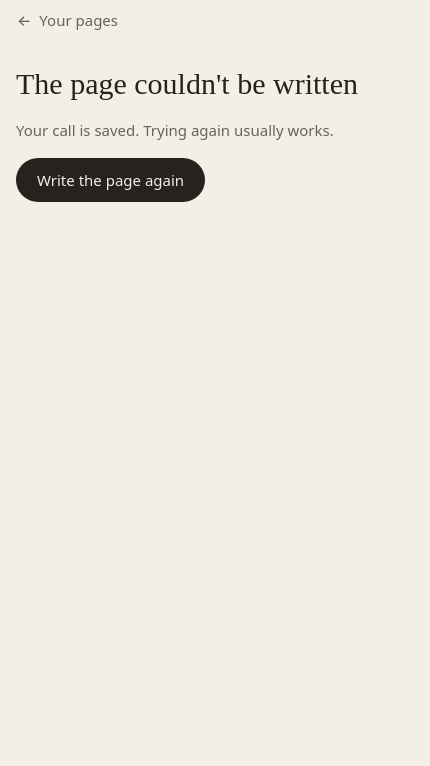
SynthesisPage › offers retry when writing failed, then resumes polling
The width and height of the screenshot is (430, 766).
Click the button "Write the page again" at (111, 180), box [16,158,205,202]
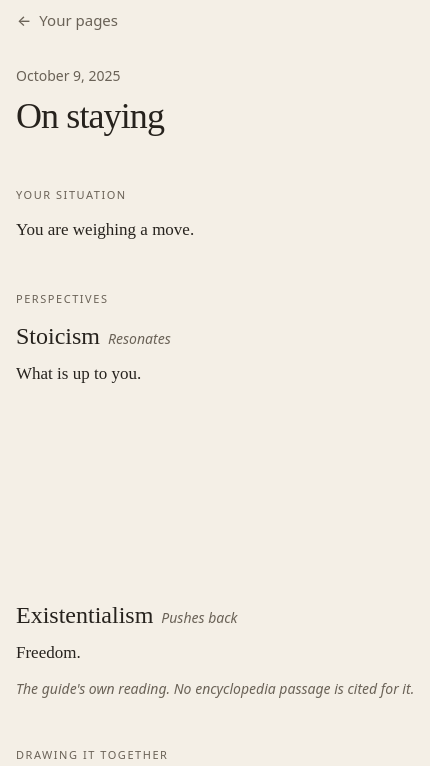
Now the heading "On staying" is shown, box [16,96,164,136]
